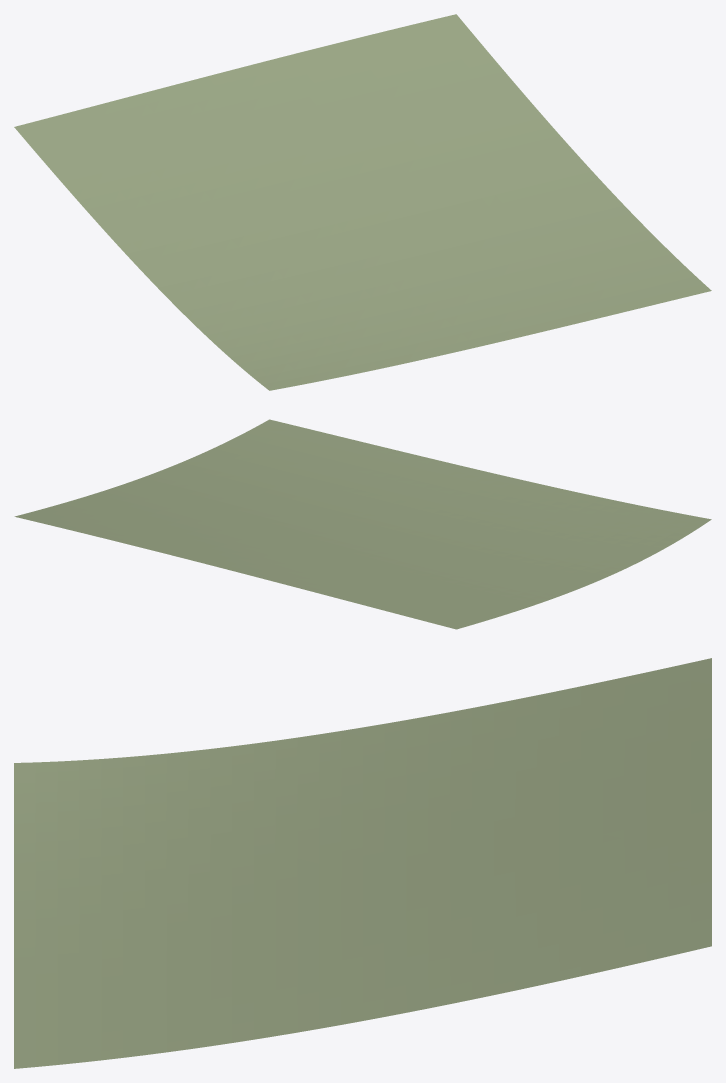
The model's file is expanse-29-20.glb.
3 renders of one model, top to bottom at view 1: azimuth 30°, elevation 25°; view 2: azimuth 150°, elevation 25°; view 3: azimuth 270°, elevation 25°, orthographic. The views are drawn at different scales.
Visible parts, largest first — view 1: expanse-29-20; view 2: expanse-29-20; view 3: expanse-29-20.
Part boxes in pixels (x1=…): expanse-29-20: x1=14, y1=14, x2=711, y2=390; expanse-29-20: x1=14, y1=419, x2=711, y2=629; expanse-29-20: x1=14, y1=658, x2=711, y2=1068.
Size of the model in its own units: 256 by 49.76 by 256.
